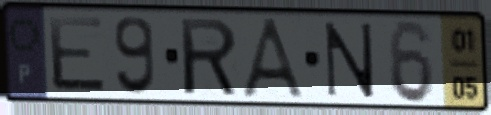6: (385, 16, 438, 106)
9: (111, 13, 158, 98)
A: (237, 15, 312, 103)
E: (44, 13, 110, 96)
N: (322, 20, 377, 100)
R: (176, 16, 240, 99)
